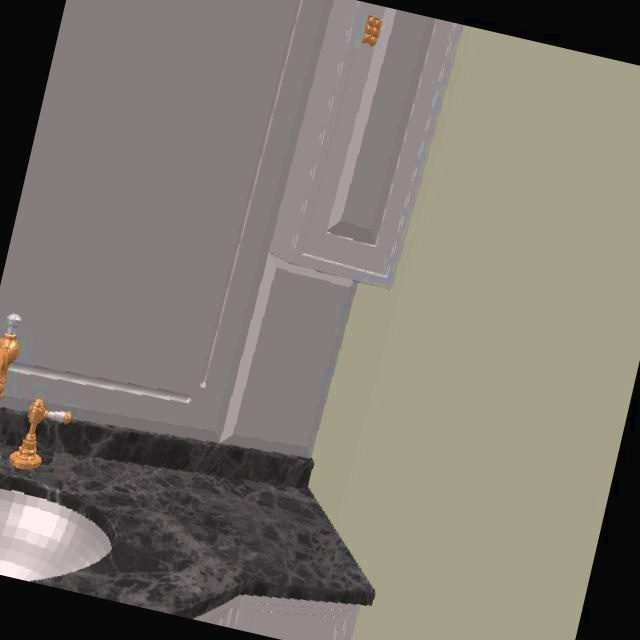washbasin: (0, 488, 110, 583)
